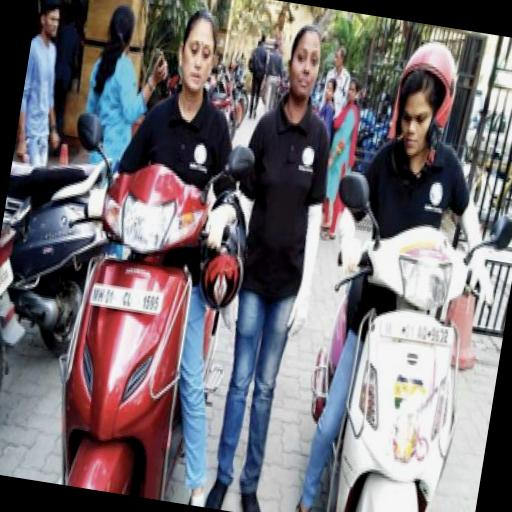helmet: (290, 17, 512, 512)
no helmet: (48, 0, 278, 486)
